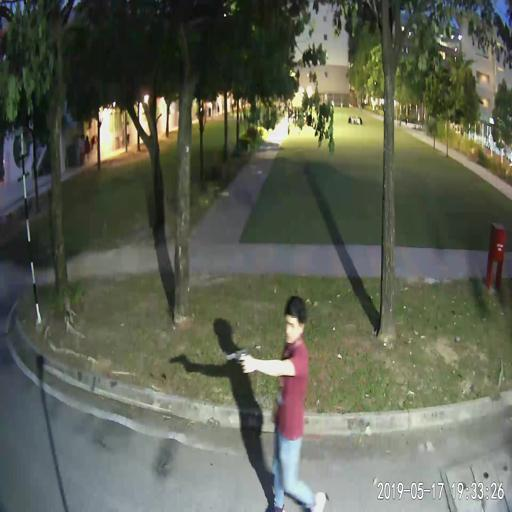Handgun: (224, 346, 250, 370)
